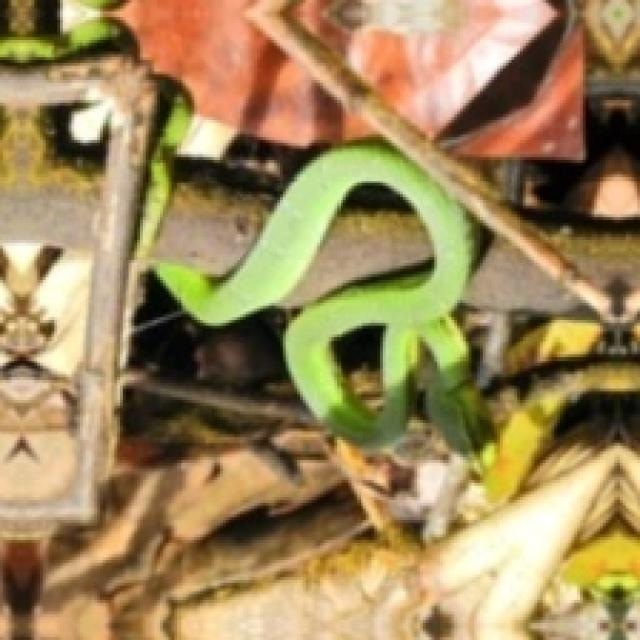north ph temple pitviper: (157, 143, 491, 451)
